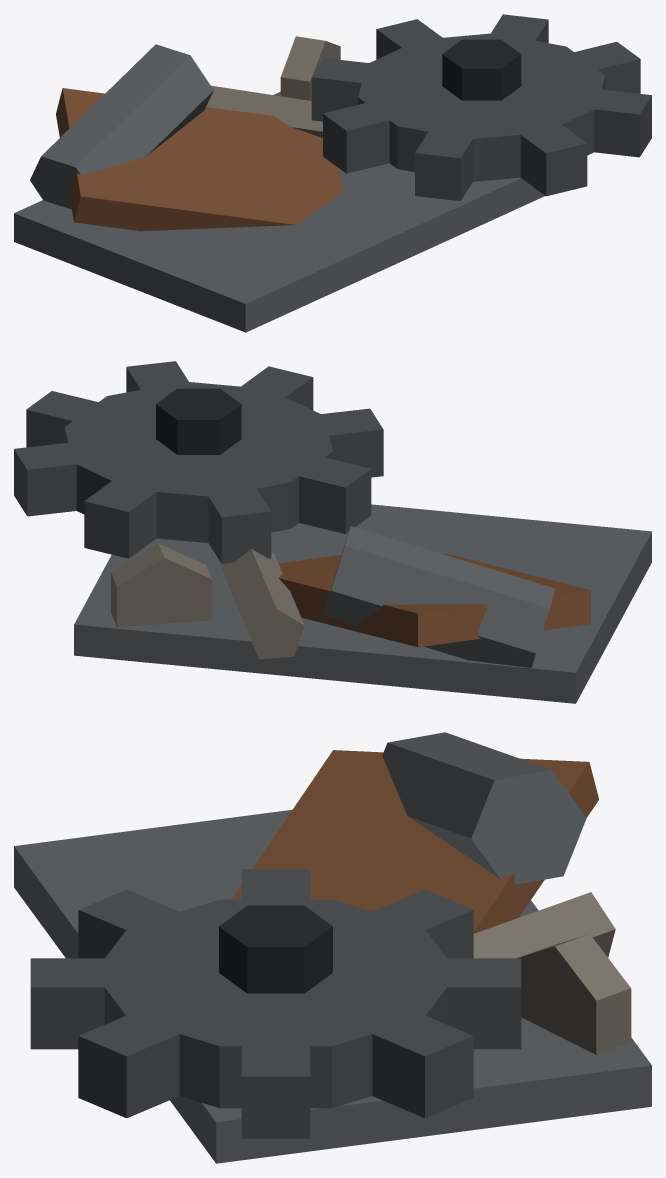
File: tool_scrap.glb
3 views of the same model, one above another, from view 1: azimuth 30°, elevation 25°; view 2: azimuth 150°, elevation 25°; view 3: azimuth 270°, elevation 25° (orthographic). The views are drawn at different scales.
Visible parts, largest first — view 1: Scrap; view 2: Scrap; view 3: Scrap.
Part boxes in pixels (x1=…): Scrap: x1=14, y1=14, x2=651, y2=332; Scrap: x1=14, y1=361, x2=651, y2=703; Scrap: x1=14, y1=732, x2=651, y2=1163.
Bounding box in the file's own units: 0.1621 × 0.0395 × 0.1119.
